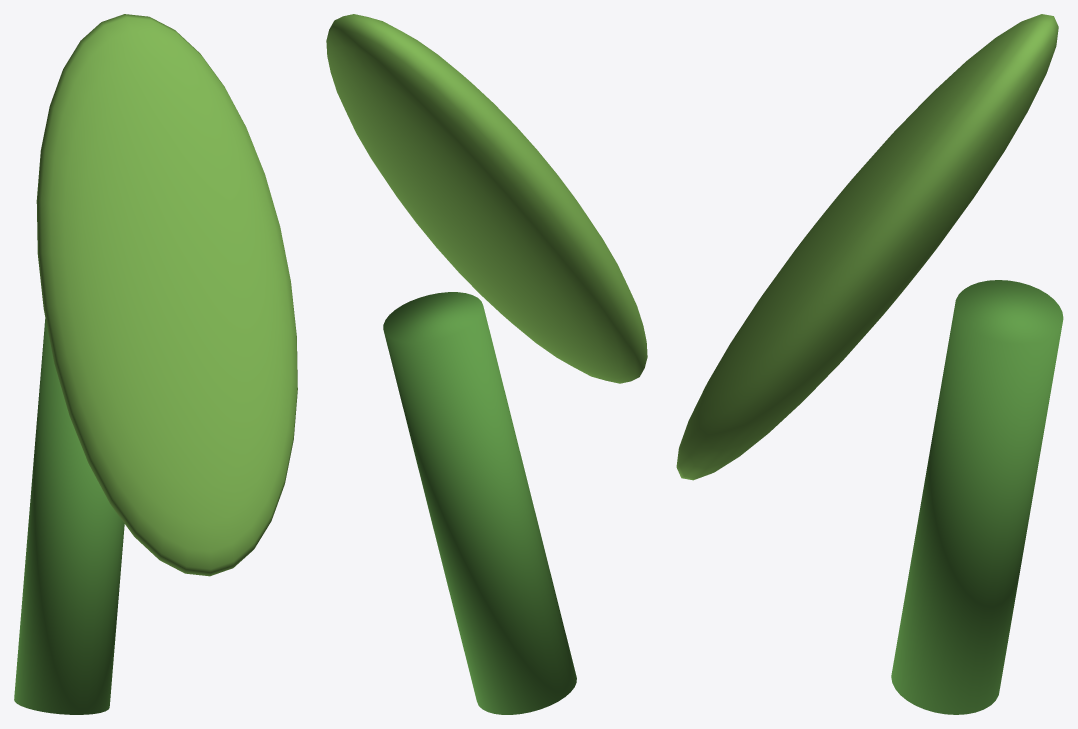
File: head_acc_hat-a.glb
3 views of the same model, side by side, from view 1: azimuth 30°, elevation 25°; view 2: azimuth 150°, elevation 25°; view 3: azimuth 270°, elevation 25° (orthographic). The views are drawn at different scales.
Visible parts, largest first — view 1: sprout_leaf, sprout_stem; view 2: sprout_leaf, sprout_stem; view 3: sprout_leaf, sprout_stem.
Part boxes in pixels (bbox=[...]): sprout_leaf: bbox=[36, 14, 297, 576]; sprout_stem: bbox=[14, 318, 124, 714]; sprout_leaf: bbox=[326, 14, 647, 383]; sprout_stem: bbox=[383, 292, 576, 714]; sprout_leaf: bbox=[676, 14, 1058, 480]; sprout_stem: bbox=[891, 280, 1063, 714].
Size of the model in its own units: 0.0326 by 0.0883 by 0.0423.
